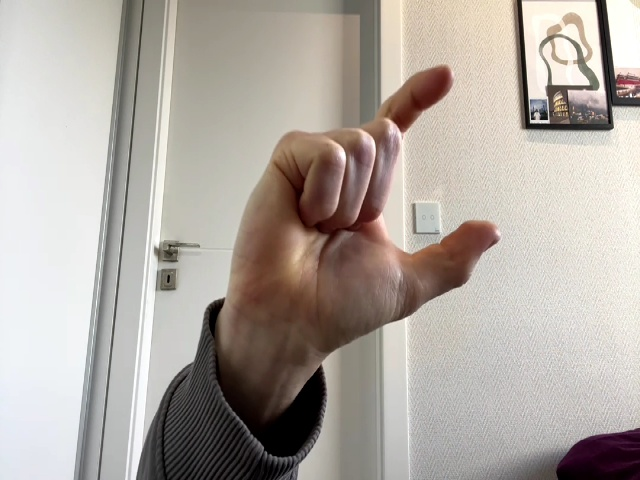C: (228, 66, 501, 354)
